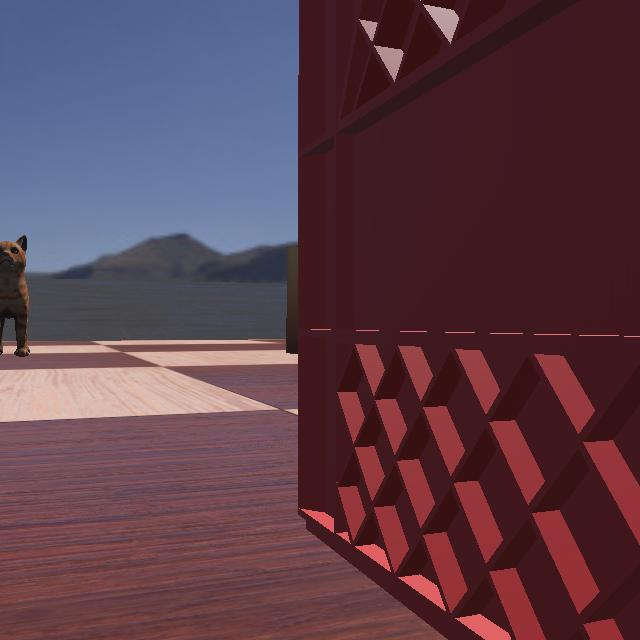cat: (0, 230, 84, 358), (0, 230, 84, 358)
plastic-crate: (1, 1, 640, 640)
